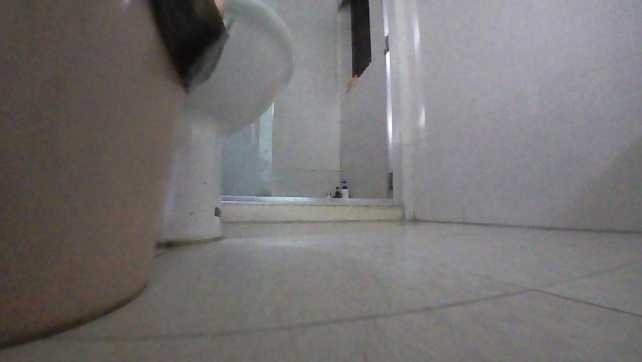toilet: (155, 0, 299, 244)
trash_can: (0, 0, 230, 349)
